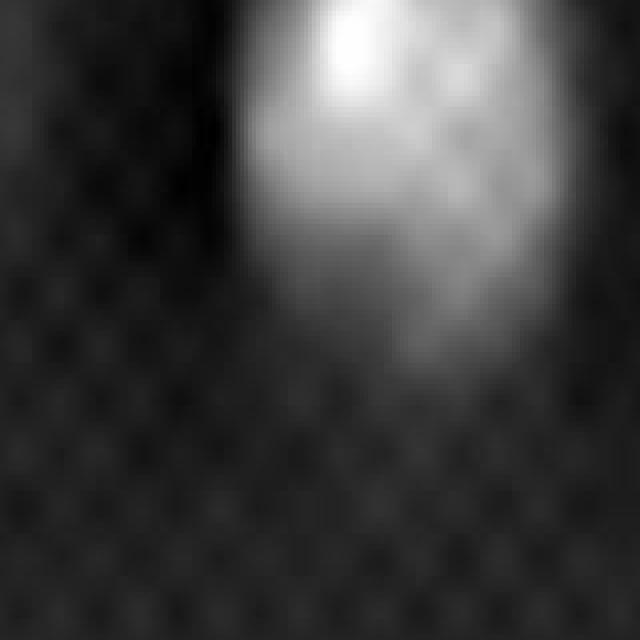person: (241, 1, 573, 390)
